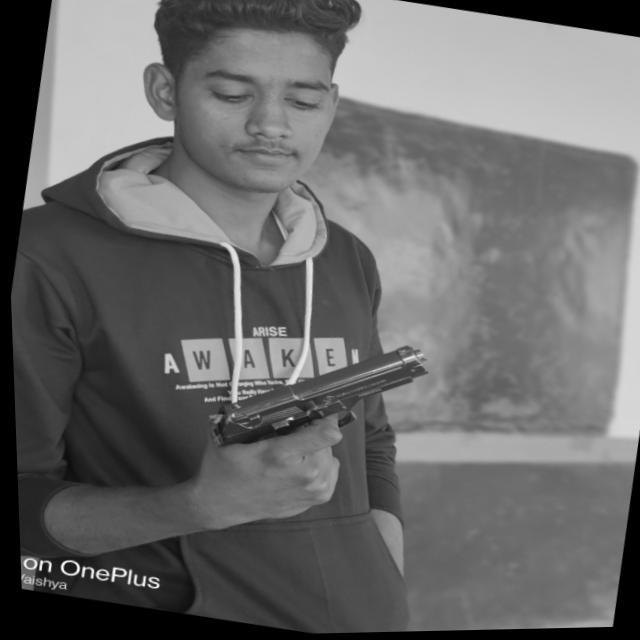weapon: (180, 309, 445, 538)
